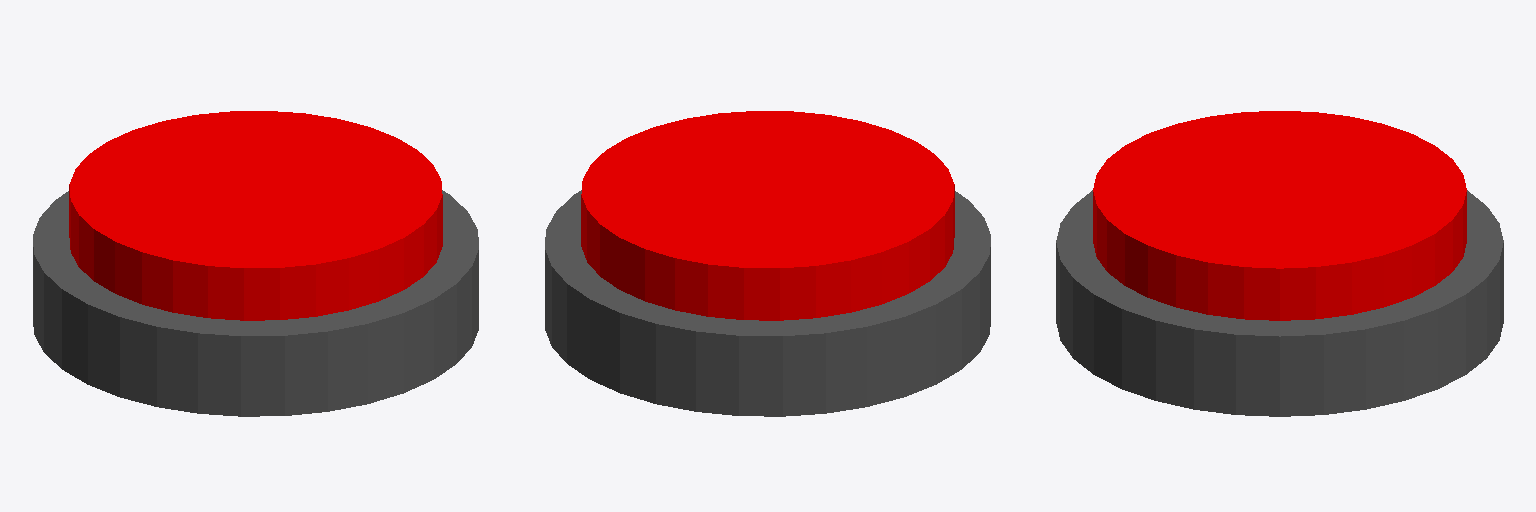
File: button.obj
The picture shows the model from 3 angles: view 1: azimuth 30°, elevation 25°; view 2: azimuth 150°, elevation 25°; view 3: azimuth 270°, elevation 25°; orthographic projection.
Visible parts, largest first — view 1: Cylinder.001_Cylinder.001_Material.001, Cylinder_Cylinder_Material.002; view 2: Cylinder.001_Cylinder.001_Material.001, Cylinder_Cylinder_Material.002; view 3: Cylinder.001_Cylinder.001_Material.001, Cylinder_Cylinder_Material.002.
Boxes of the visible parts, box(x1,y1,x2,y2) form: Cylinder.001_Cylinder.001_Material.001: box(69, 111, 442, 320); Cylinder_Cylinder_Material.002: box(33, 190, 478, 416); Cylinder.001_Cylinder.001_Material.001: box(581, 111, 954, 320); Cylinder_Cylinder_Material.002: box(545, 190, 990, 416); Cylinder.001_Cylinder.001_Material.001: box(1093, 111, 1466, 320); Cylinder_Cylinder_Material.002: box(1056, 190, 1503, 416).
Bounding box in the file's own units: 0.606 × 0.1982 × 0.606.